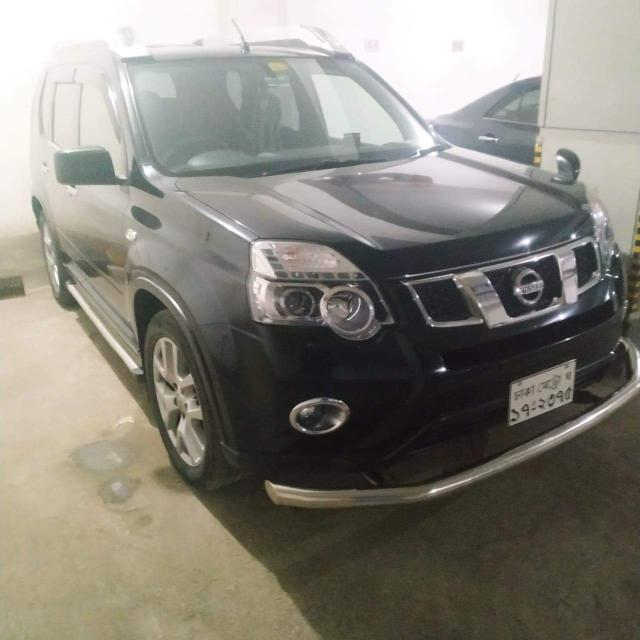black: (25, 45, 640, 488)
